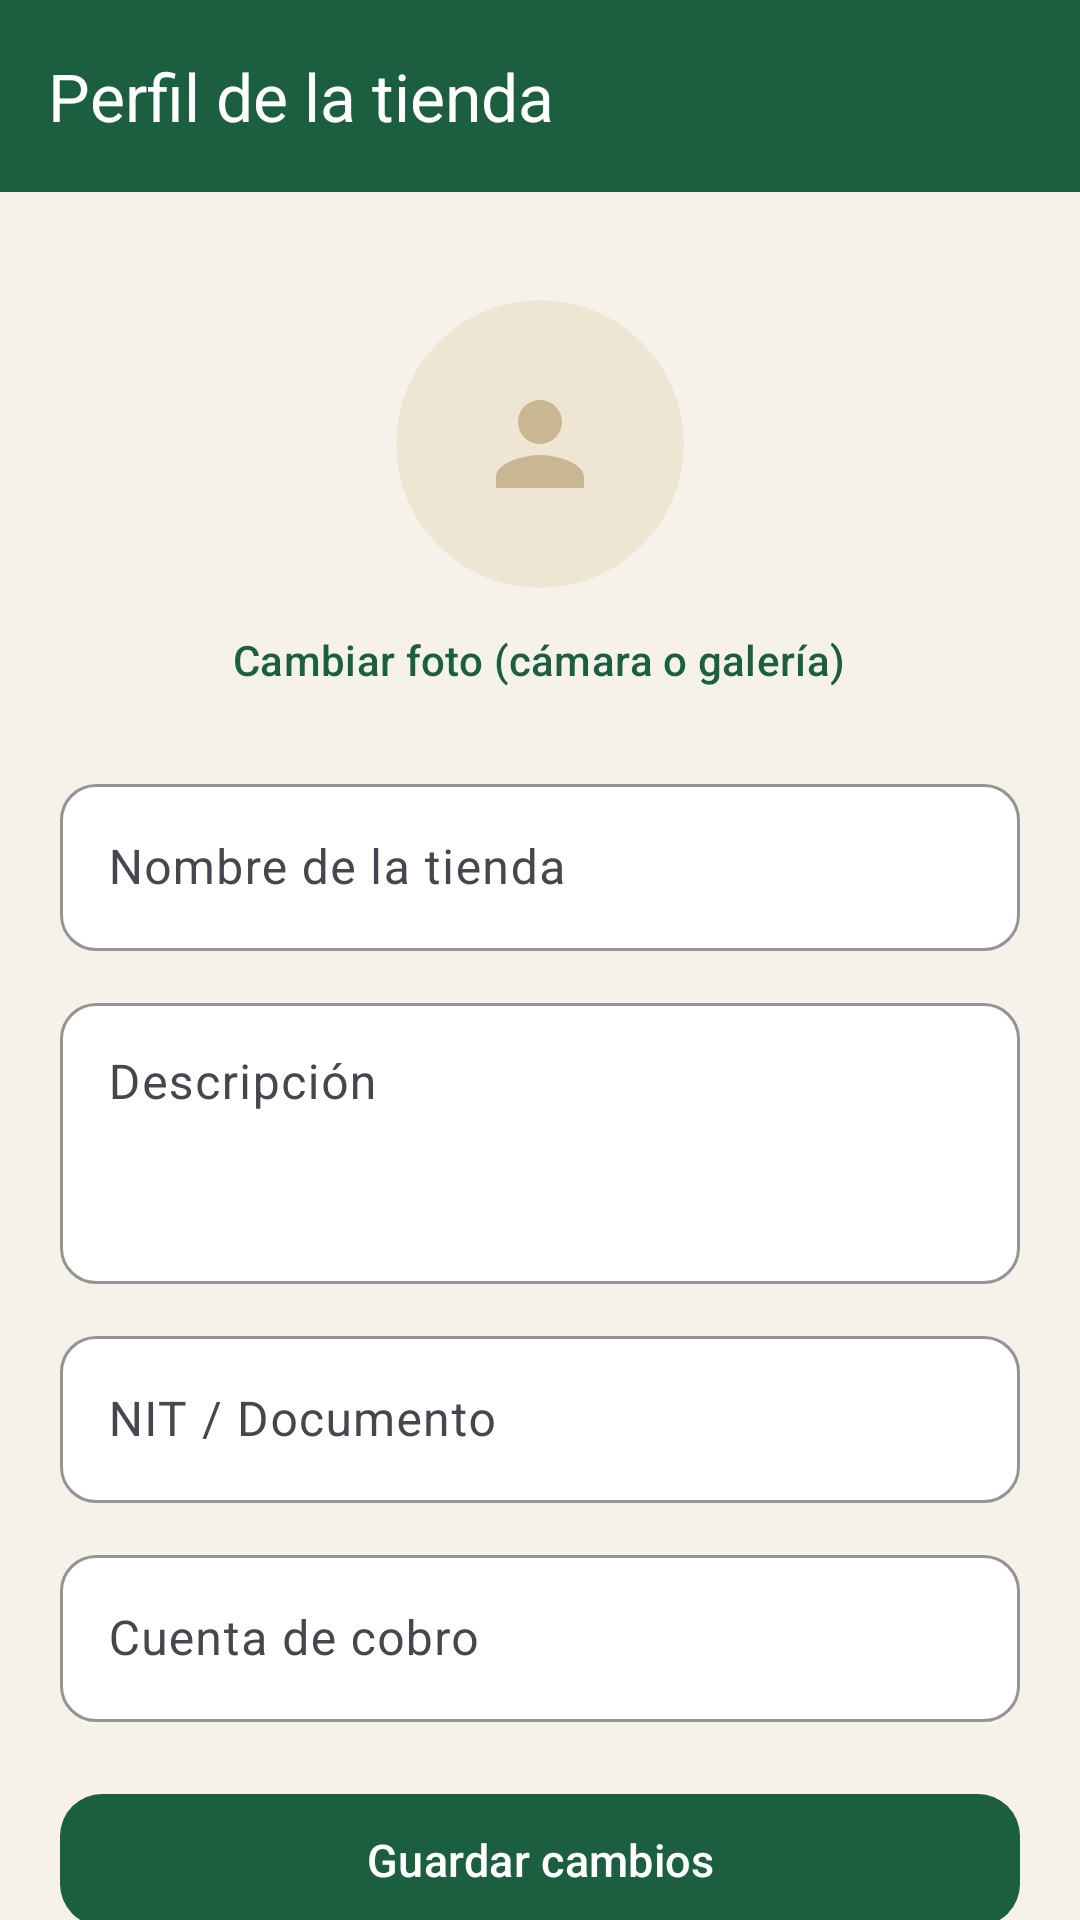

Icons on this 1080×1920 Android screen, each with its box as (x1, y1, x2, y2):
Foto de perfil: (496, 400, 584, 488)
